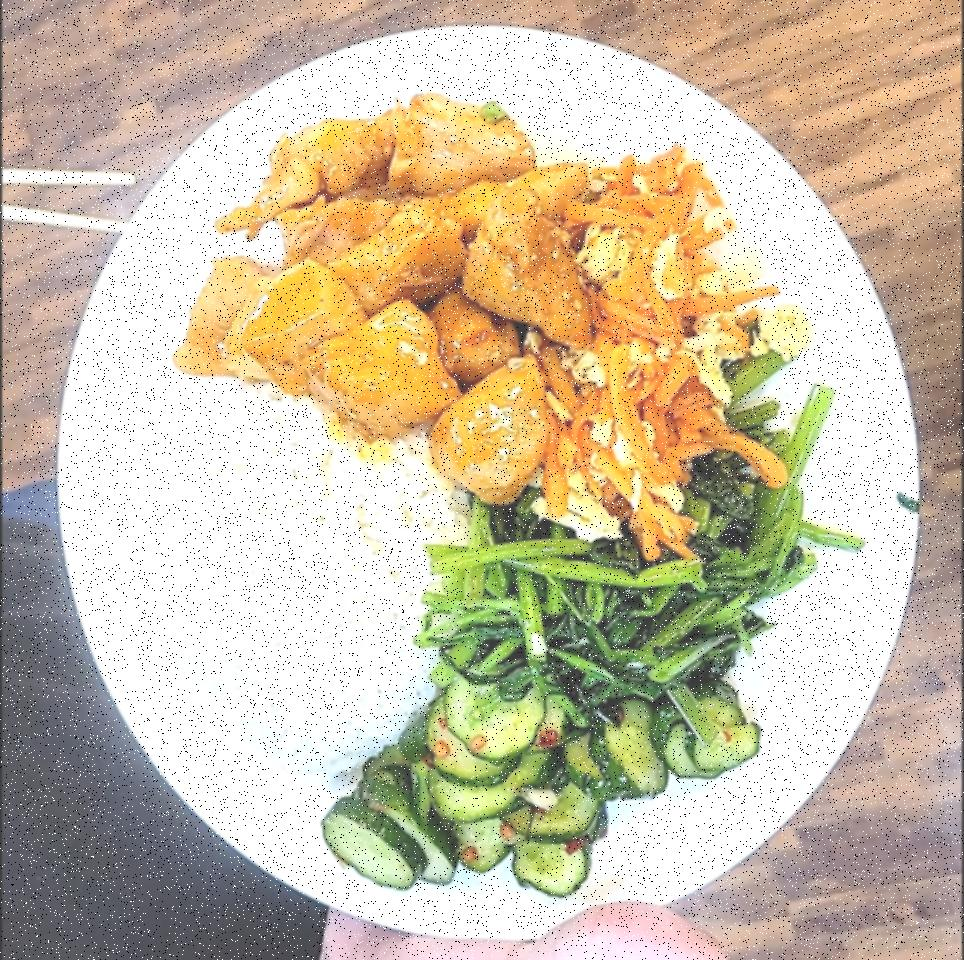plate: (30, 13, 944, 954)
side dish: (420, 450, 813, 702), (321, 690, 754, 899), (528, 167, 744, 530)
spicy chicken: (166, 100, 592, 493)
white rice: (161, 381, 488, 774)
